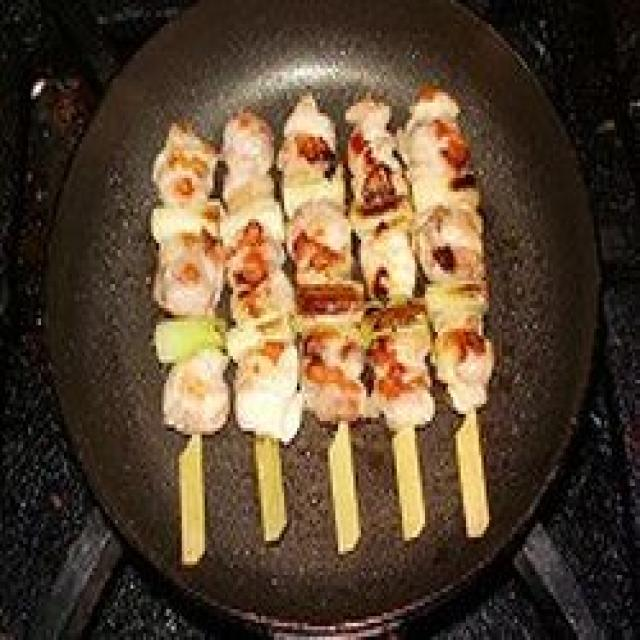烧串烤肉: (133, 68, 515, 582)
